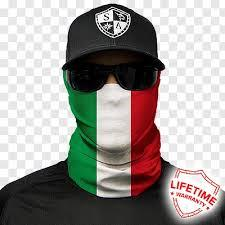cap: (62, 3, 172, 69)
scarf-kerchief: (56, 78, 166, 200)
sunglasses: (62, 57, 168, 94)
